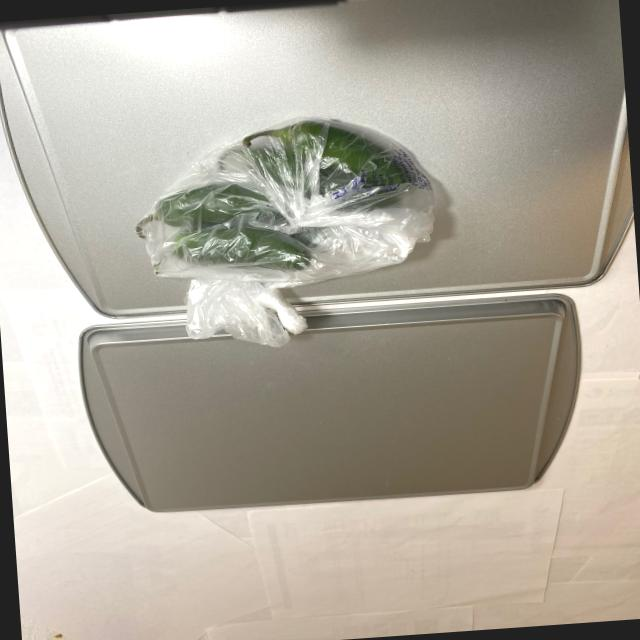chilli: (122, 106, 444, 300)
